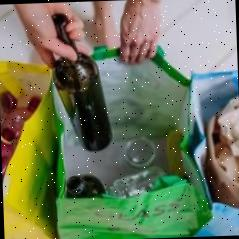glass: (48, 10, 116, 156), (64, 173, 106, 206)
